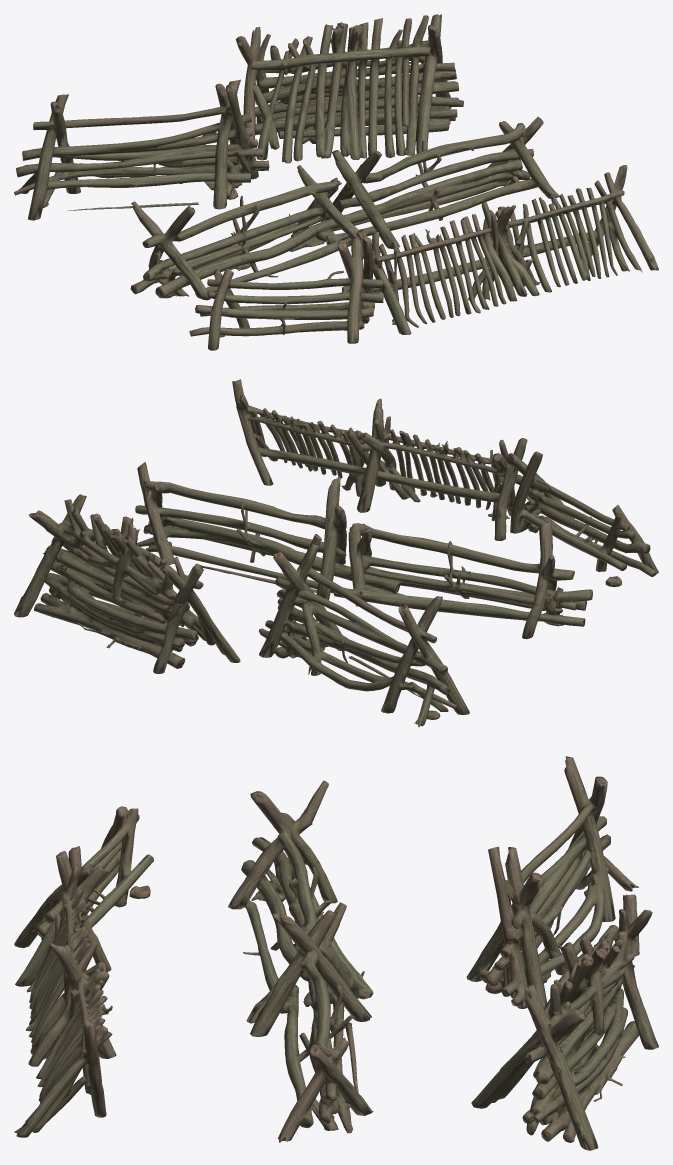
File: deadfall_driftwood_weathered.glb
The picture shows the model from 3 angles, top to bottom: view 1: azimuth 30°, elevation 25°; view 2: azimuth 150°, elevation 25°; view 3: azimuth 270°, elevation 25°; orthographic projection. The views are drawn at different scales.
Bounding box in the file's own units: 1.9 × 0.4664 × 1.86.
Materials: 1 (1 with a texture image).
